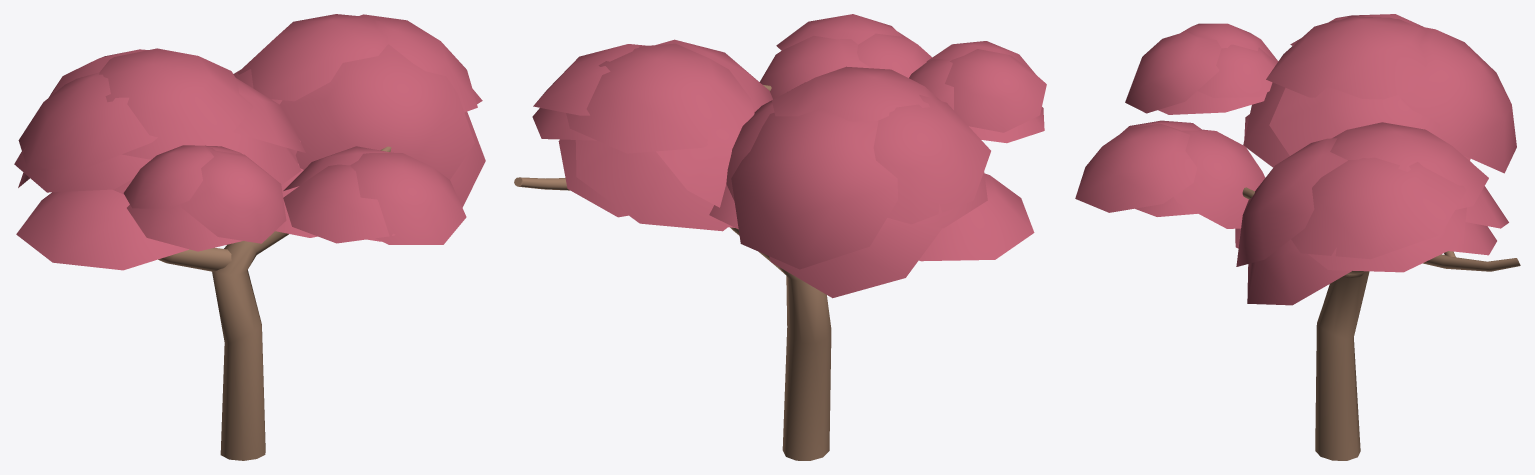
The model's file is Tree_4.glb.
The picture shows the model from 3 angles, left to right: view 1: azimuth 30°, elevation 25°; view 2: azimuth 150°, elevation 25°; view 3: azimuth 270°, elevation 25°; orthographic projection. The views are drawn at different scales.
Visible parts, largest first — view 1: Tree_4; view 2: Tree_4; view 3: Tree_4.
Part boxes in pixels (x1,y1,x2,y2): Tree_4: (14,14,485,460); Tree_4: (514,14,1046,460); Tree_4: (1075,14,1520,460).
Bounding box in the file's own units: 6.27 × 5.33 × 5.46.
